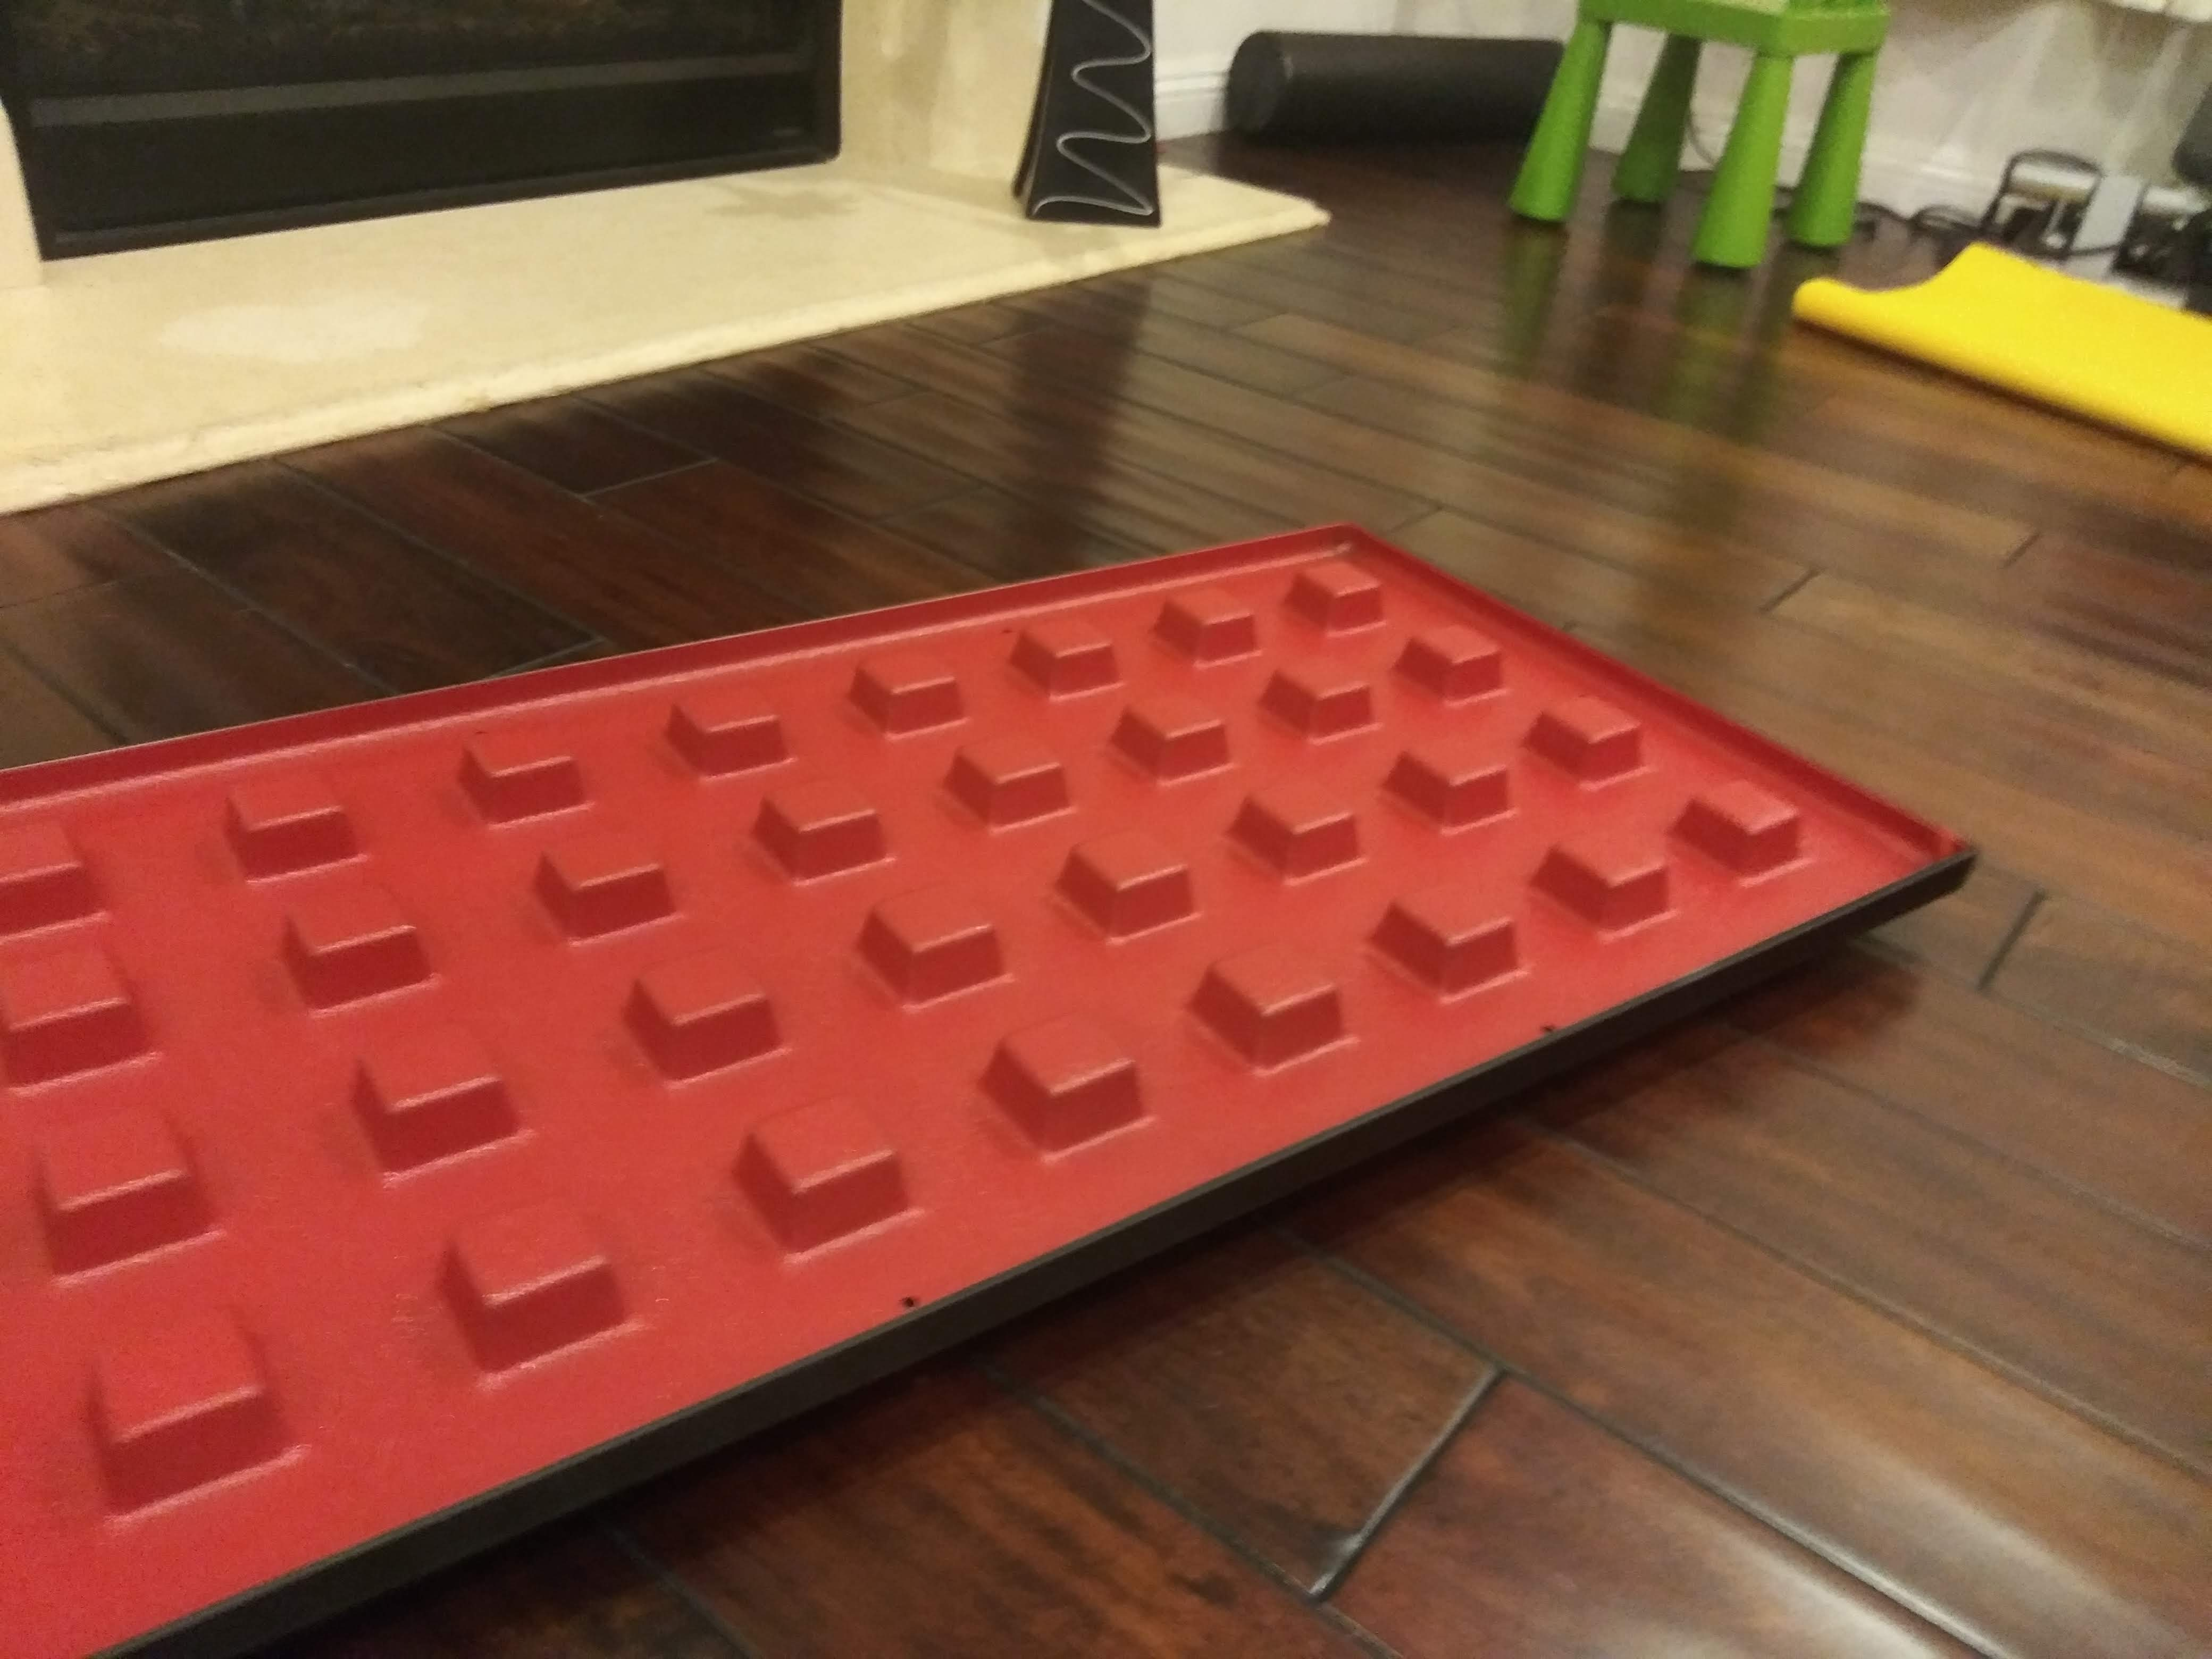red foundation: (45, 495, 1951, 1551)
